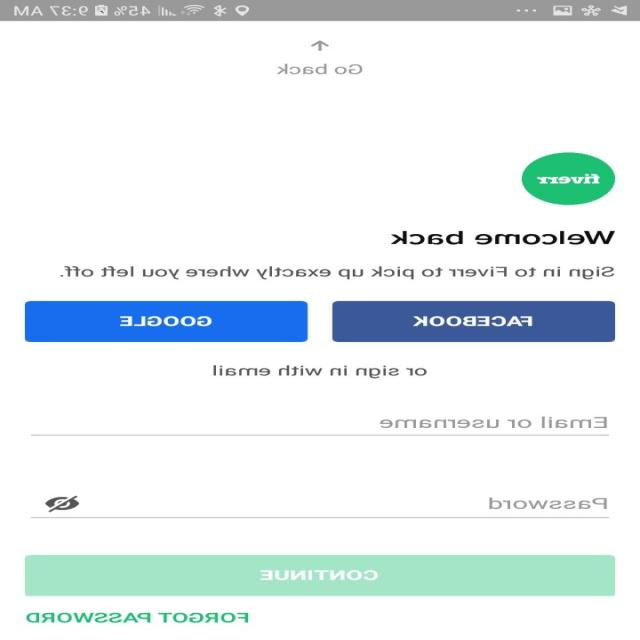EditText: (31, 494, 610, 518), (31, 416, 610, 435)
Icon: (45, 495, 81, 512), (311, 40, 330, 51)
Image: (522, 152, 616, 205)
Text: (60, 266, 616, 280), (390, 230, 616, 244), (213, 364, 428, 378), (380, 416, 608, 428), (27, 612, 250, 622), (489, 497, 608, 509), (276, 62, 364, 74)
TextButton: (25, 555, 616, 596), (332, 300, 616, 342), (25, 300, 308, 342)
